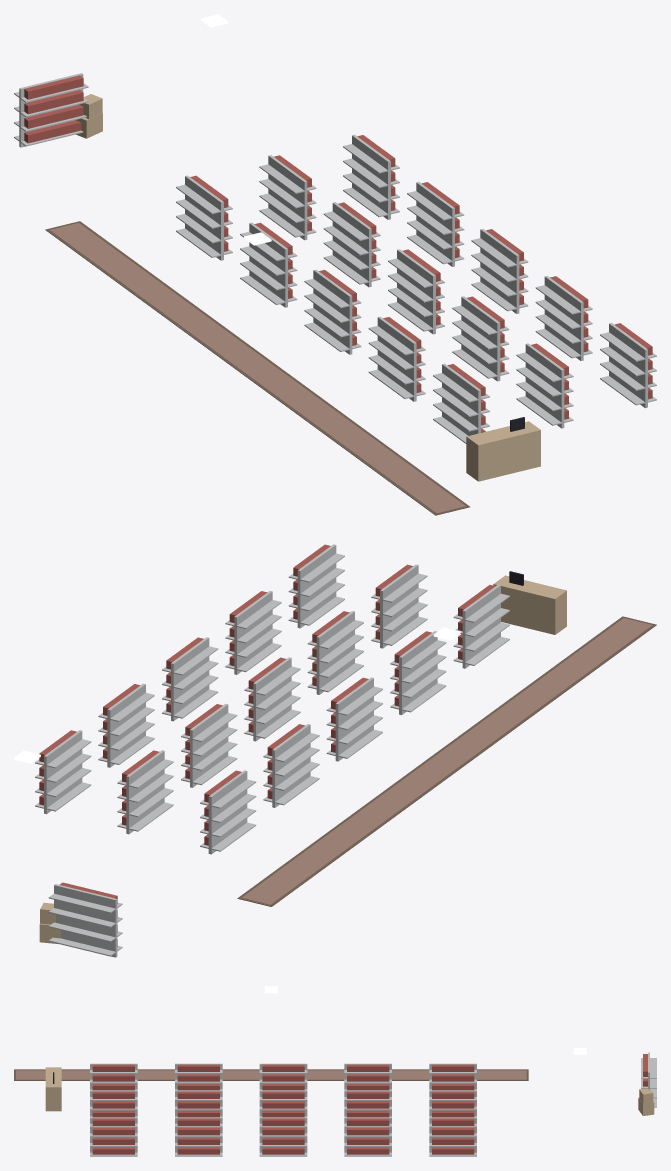
File: fine-s0.glb
The picture shows the model from 3 angles, top to bottom: view 1: azimuth 30°, elevation 25°; view 2: azimuth 150°, elevation 25°; view 3: azimuth 270°, elevation 25°; orthographic projection. The views are drawn at different scales.
Visible parts, largest first — view 1: soft-s0, shelving.000, shop-counter.000, shelf.006, shelf.013, shelf.003, shelf.008, shelf.009, shelf.005, shelf.012, shelf.002, shelf.007 (+7 smaller); view 2: soft-s0, shelving.000, shelf.007, shelf.013, shelf.000, shelf.009, shelf.014, shelf.001, shelf.012, shelf.006, shelf.010, shelf.003 (+7 smaller); view 3: soft-s0, shelf.012, shelf.010, shelf.011, shelf.013, shelf.014, shelf.007, shelf.002, shelf.000, shelf.001, shelf.003, shelf.004 (+7 smaller).
Boxes of the visible parts, left/top/right/bottom form: soft-s0: left=45, top=221, right=469, bottom=515; shelving.000: left=14, top=73, right=88, bottom=147; shop-counter.000: left=466, top=417, right=540, bottom=481; shelf.006: left=323, top=202, right=380, bottom=287; shelf.013: left=535, top=276, right=592, bottom=360; shelf.003: left=368, top=316, right=425, bottom=401; shelf.008: left=452, top=296, right=509, bottom=381; shelf.009: left=516, top=343, right=573, bottom=428; shelf.005: left=259, top=155, right=316, bottom=240; shelf.012: left=471, top=229, right=528, bottom=313; shelf.002: left=304, top=269, right=361, bottom=354; shelf.007: left=388, top=249, right=444, bottom=334; soft-s0: left=237, top=616, right=656, bottom=906; shelving.000: left=48, top=882, right=122, bottom=957; shelf.007: left=244, top=657, right=300, bottom=741; shelf.013: left=225, top=591, right=281, bottom=674; shelf.000: left=200, top=770, right=256, bottom=854; shelf.009: left=371, top=564, right=427, bottom=648; shelf.014: left=288, top=544, right=344, bottom=628; shelf.001: left=263, top=724, right=319, bottom=807; shelf.012: left=162, top=637, right=218, bottom=721; shelf.006: left=181, top=703, right=237, bottom=787; shelf.010: left=35, top=730, right=91, bottom=814; shelf.003: left=390, top=631, right=446, bottom=714; soft-s0: left=14, top=1069, right=528, bottom=1080; shelf.012: left=259, top=1117, right=307, bottom=1156; shelf.010: left=429, top=1117, right=476, bottom=1156; shelf.011: left=344, top=1117, right=391, bottom=1156; shelf.013: left=175, top=1117, right=222, bottom=1156; shelf.014: left=90, top=1117, right=137, bottom=1156; shelf.007: left=259, top=1090, right=307, bottom=1117; shelf.002: left=259, top=1063, right=307, bottom=1090; shelf.000: left=429, top=1063, right=476, bottom=1090; shelf.001: left=344, top=1063, right=391, bottom=1090; shelf.003: left=175, top=1063, right=222, bottom=1090; shelf.004: left=90, top=1063, right=137, bottom=1090.
Size of the model in its own units: 8.02 by 3.59 by 24.27.
